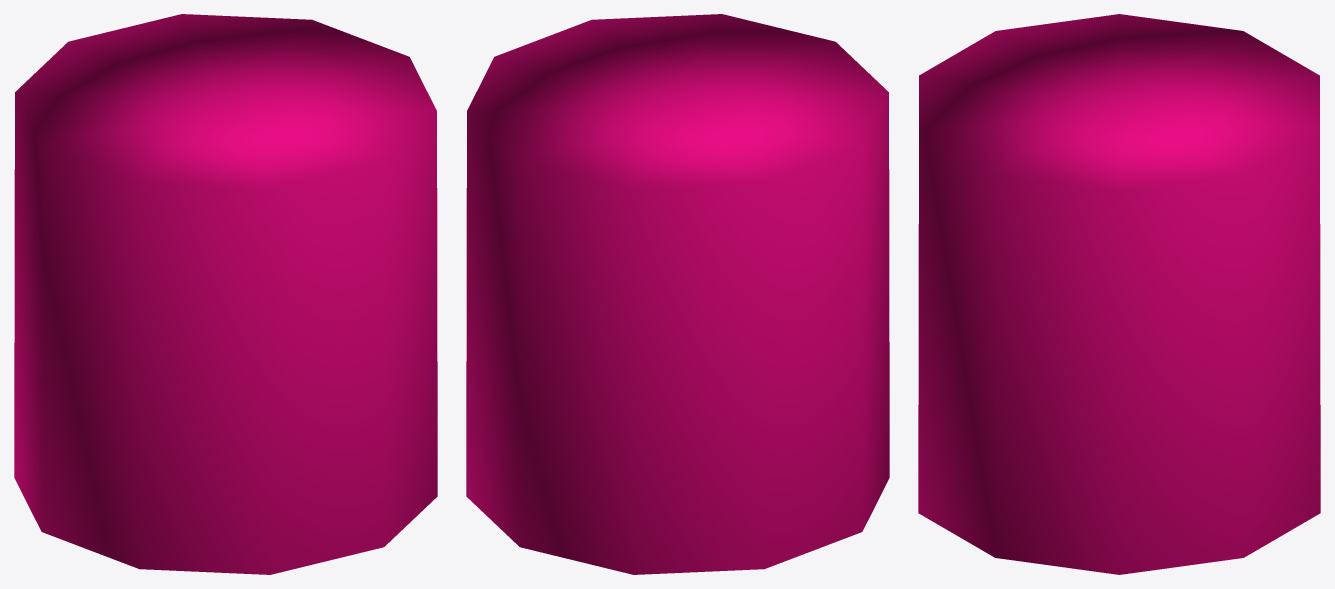
File: Canned_Food_07_Lod1.fbx
The picture shows the model from 3 angles, left to right: view 1: azimuth 30°, elevation 25°; view 2: azimuth 150°, elevation 25°; view 3: azimuth 270°, elevation 25°; orthographic projection.
Visible parts, largest first — view 1: Canned_Food_07_Lod1; view 2: Canned_Food_07_Lod1; view 3: Canned_Food_07_Lod1.
Part boxes in pixels (bbox=[...]): Canned_Food_07_Lod1: bbox=[14, 14, 437, 574]; Canned_Food_07_Lod1: bbox=[466, 14, 889, 574]; Canned_Food_07_Lod1: bbox=[918, 14, 1320, 574].
Bounding box in the file's own units: 11.62 × 11.6 × 11.05.
